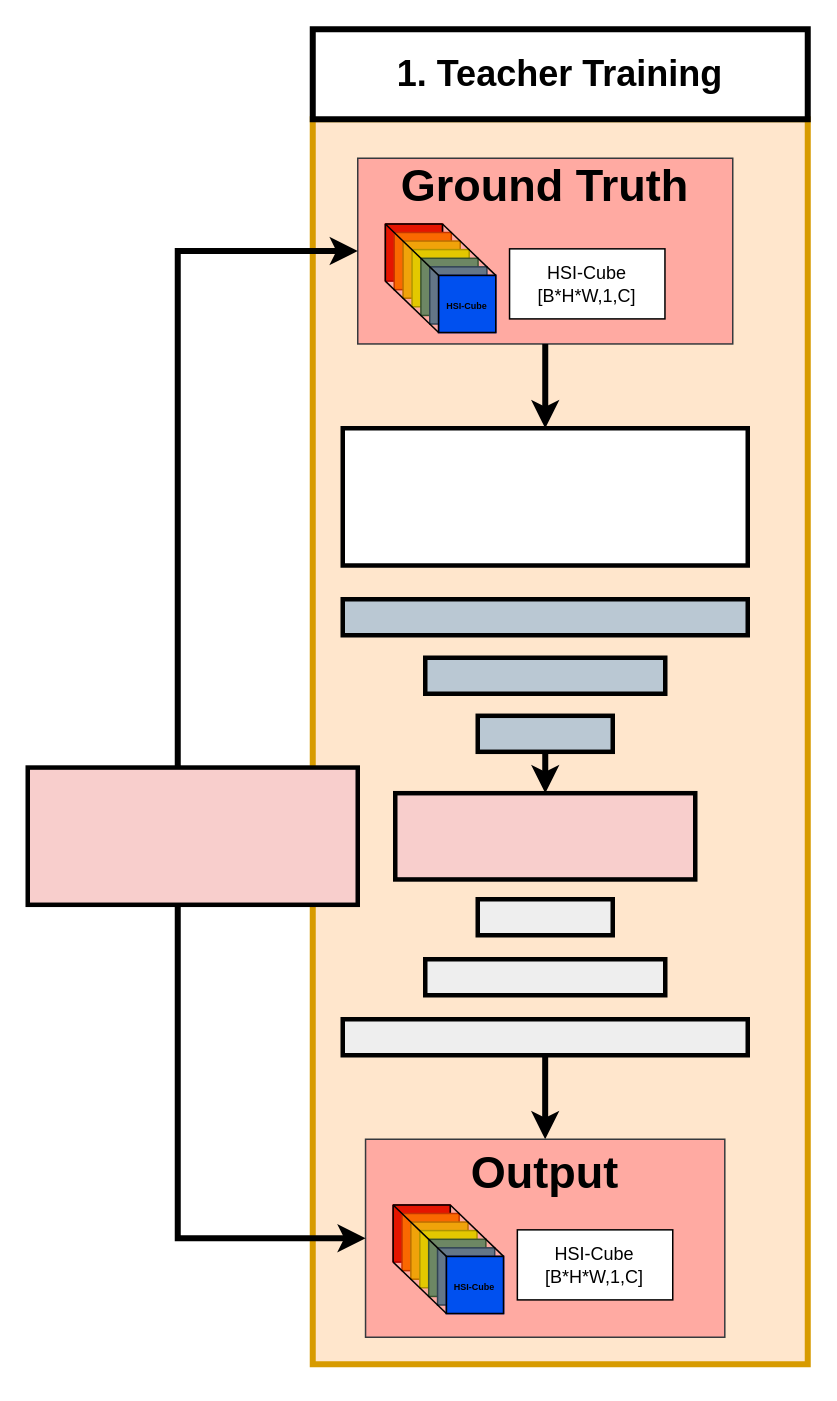
Some shapes in this 837 by 1401 pixel diagram are drawn without their labels. Each missing label, with the box of its shape:
Latent space: (392, 790, 697, 881)
Loss Function L Huber: (25, 765, 359, 906)
Teacher Autoencoder: (340, 425, 749, 567)
